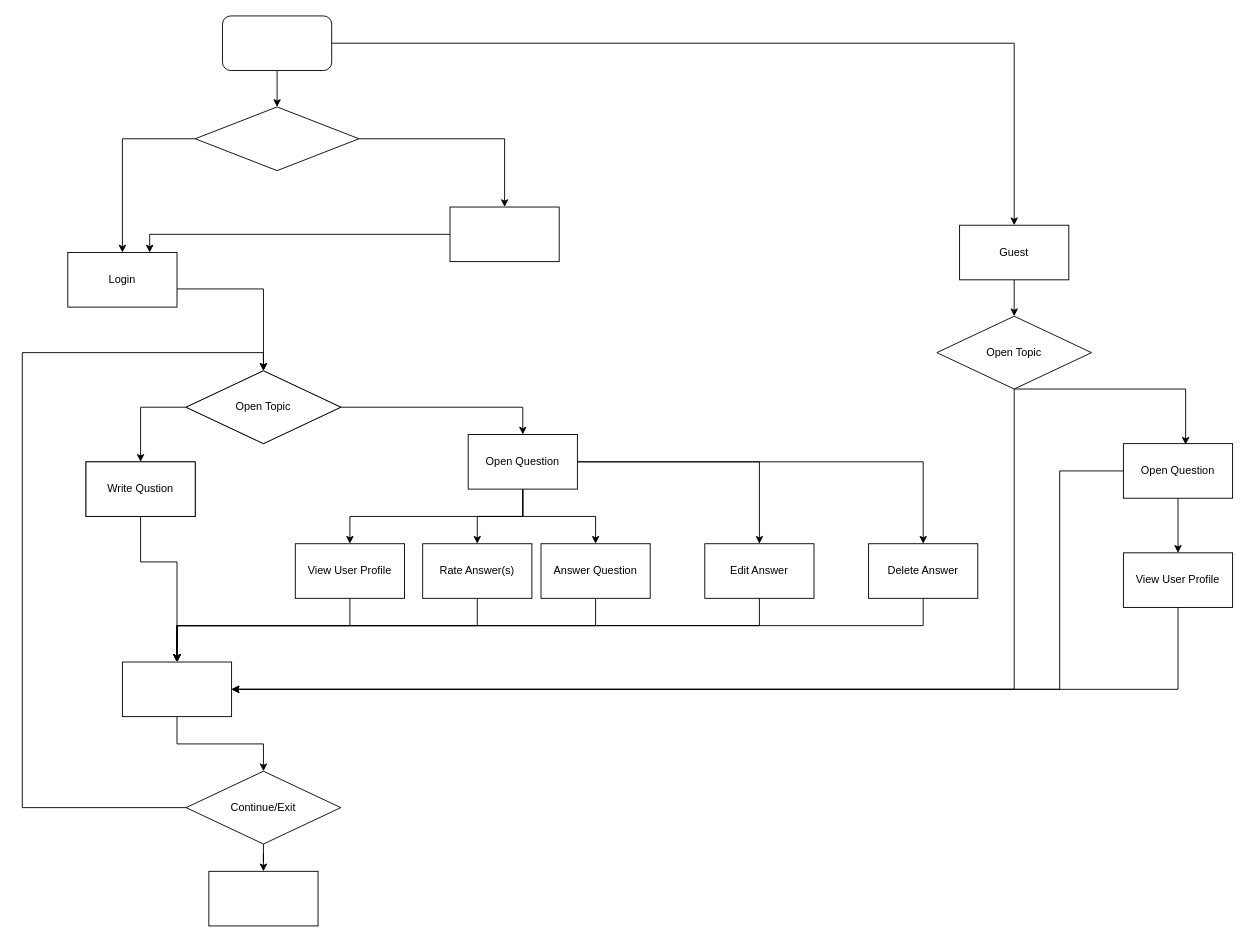
Some shapes in this 1249 by 942 pixel diagram are drawn without their labels. Each missing label, with the box of its shape:
Exit: (208, 870, 318, 926)
Finish: (121, 661, 232, 717)
Login/Register: (194, 106, 359, 171)
Open App: (222, 15, 332, 71)
Register: (449, 206, 559, 262)
